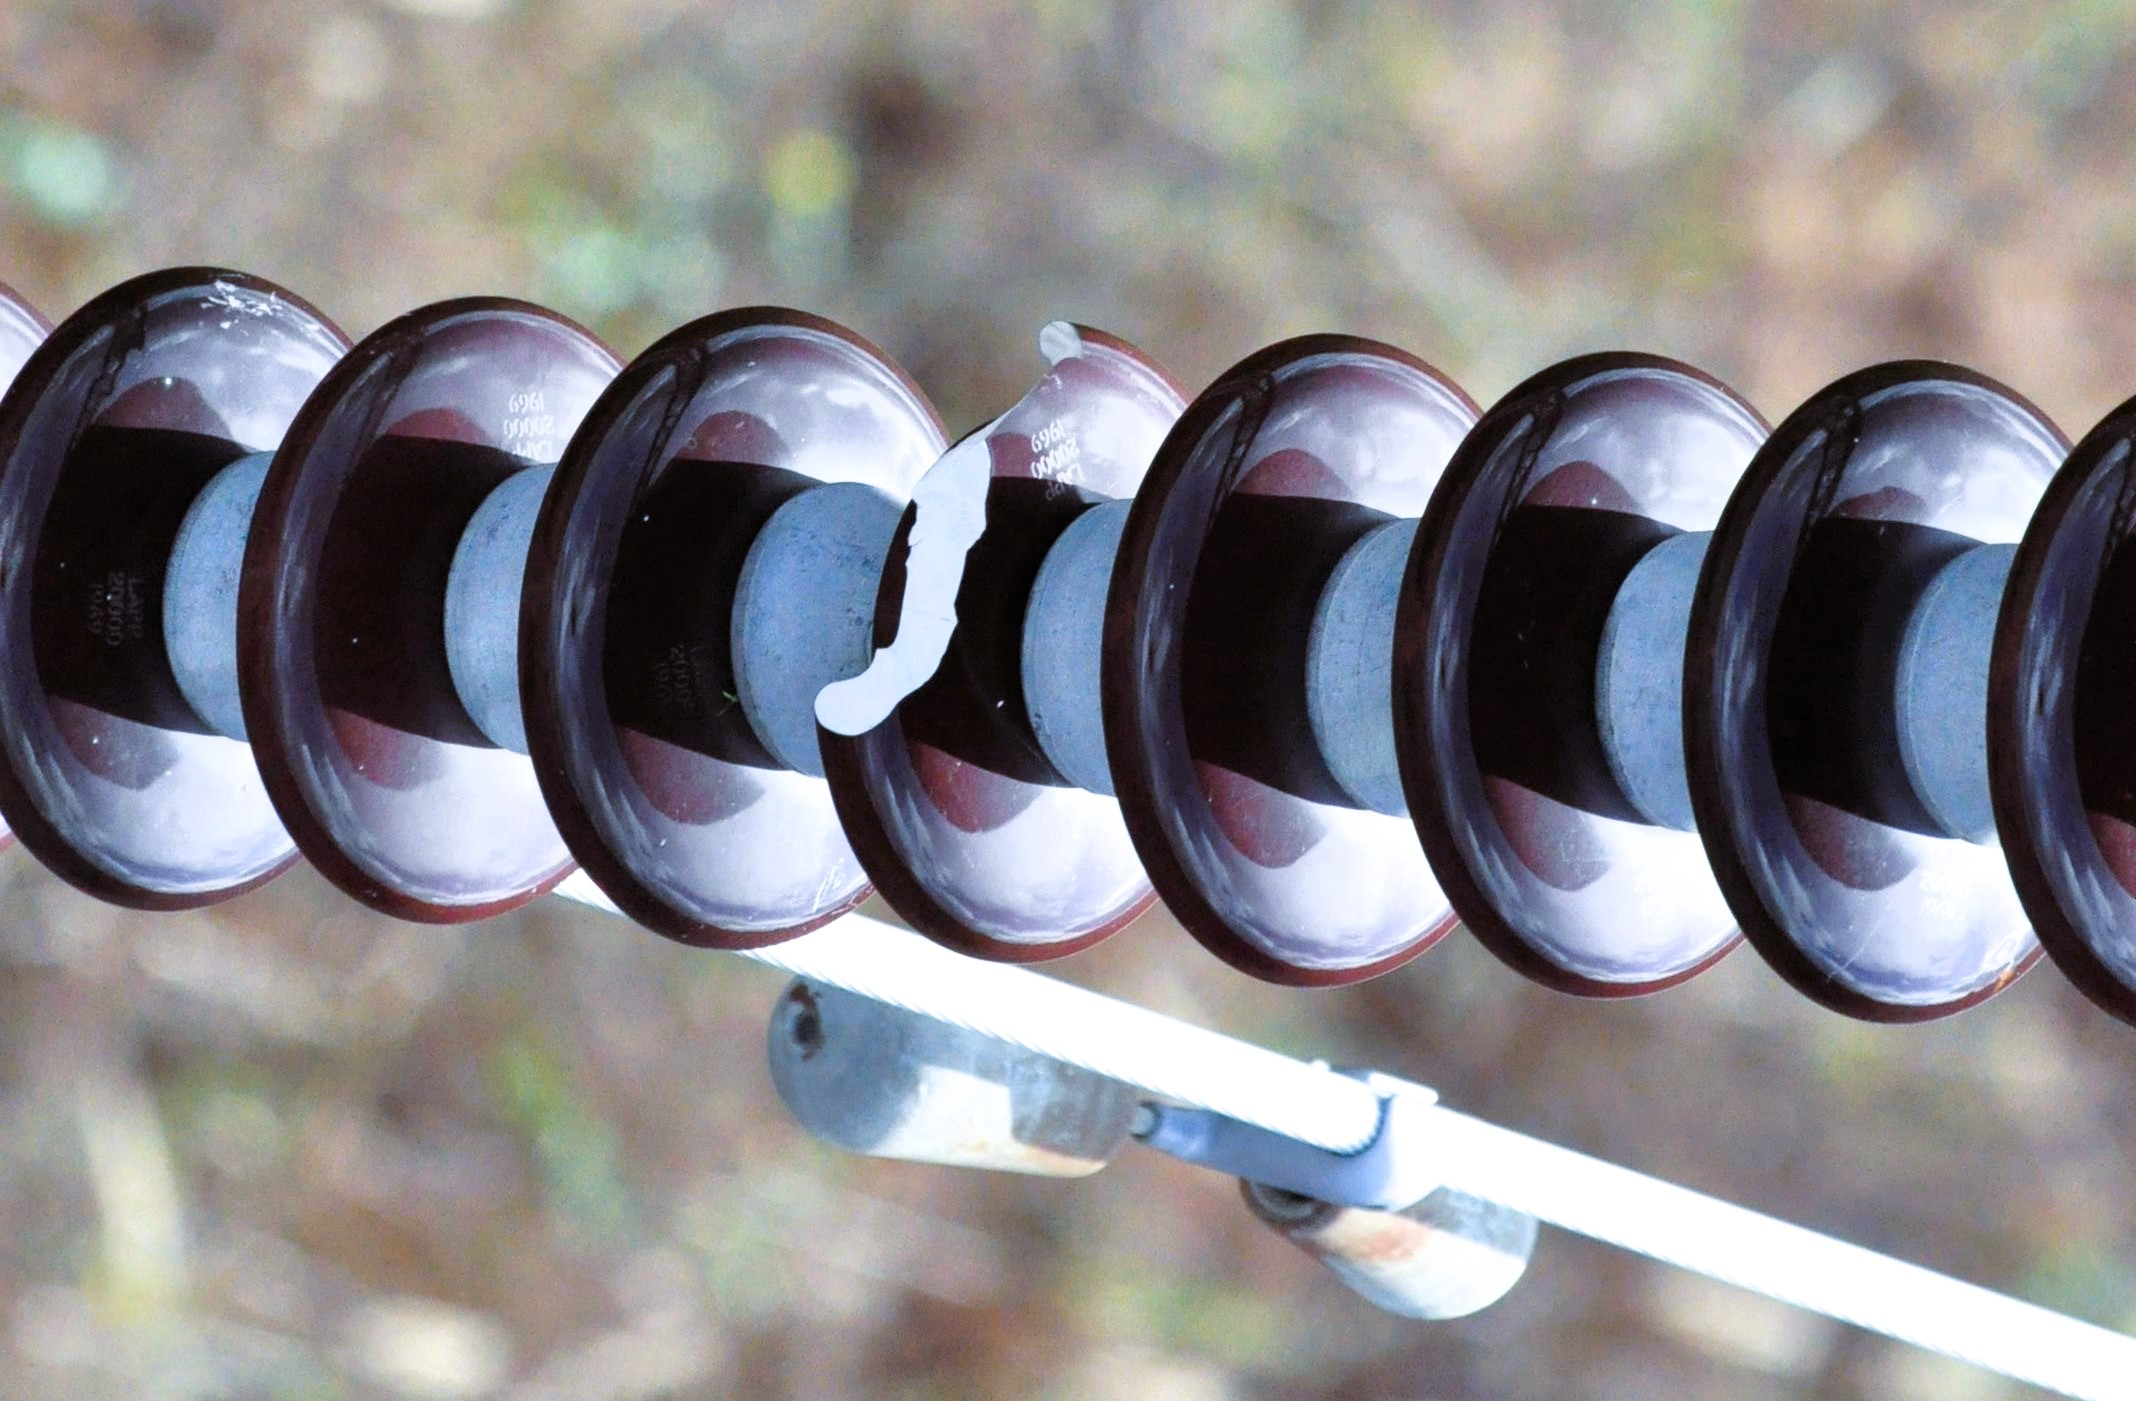insulator breakage: (804, 321, 1188, 966)
